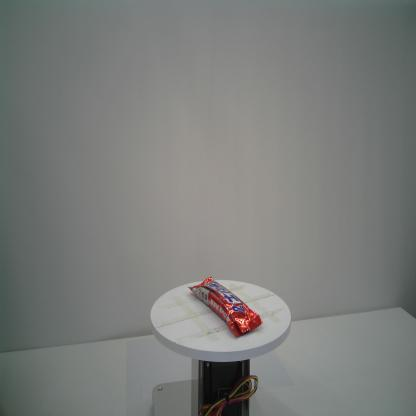Chocolate: (187, 275, 264, 339)
